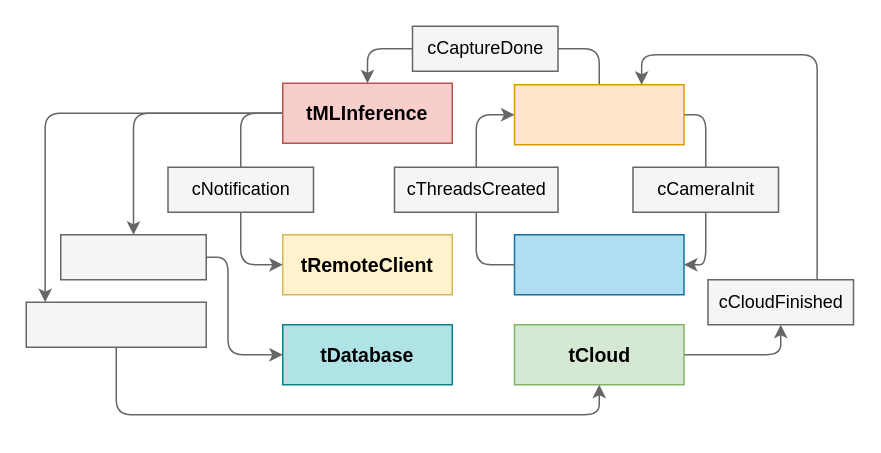
The diagram is 881 pixels wide and 453 high, and some of its shapes have lost their labels. The centre of each missing label's shape, as x and y in pixels:
cThreatFoundCloud: point (115, 324)
cThreatFoundDB: point (132, 256)
tCameraControl: point (598, 114)
tMain: point (598, 264)
